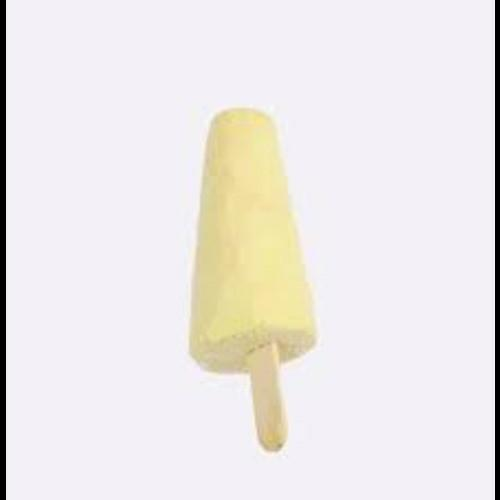Kulfi: (190, 109, 317, 373)
